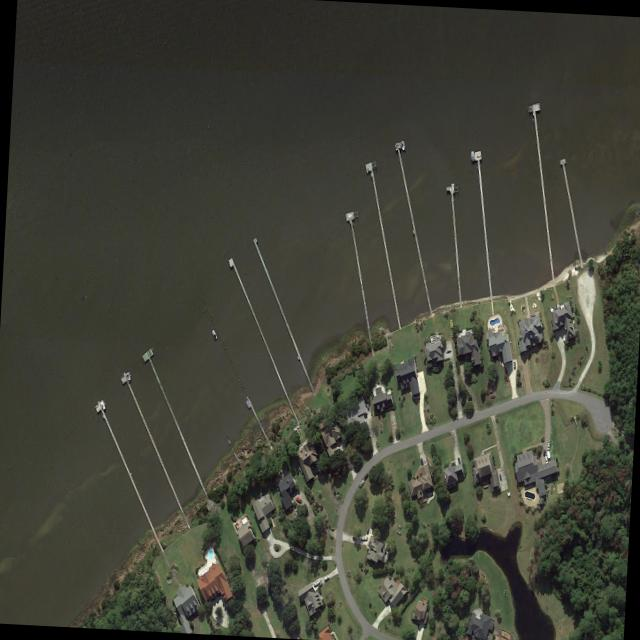ship: (210, 328, 217, 339), (98, 398, 105, 409), (399, 139, 405, 151), (312, 577, 320, 585), (469, 149, 474, 161), (124, 370, 130, 380), (506, 488, 510, 497), (359, 534, 366, 539)
small-vehicle: (357, 478, 363, 486), (362, 471, 368, 479), (230, 514, 236, 521), (295, 496, 301, 503), (323, 574, 329, 580), (419, 457, 423, 466), (544, 454, 547, 463), (546, 440, 549, 449), (317, 581, 322, 586), (542, 448, 545, 456), (512, 360, 515, 368), (351, 535, 357, 539), (365, 527, 369, 533), (457, 456, 460, 463), (423, 457, 426, 464), (498, 474, 501, 480), (481, 638, 484, 640)
